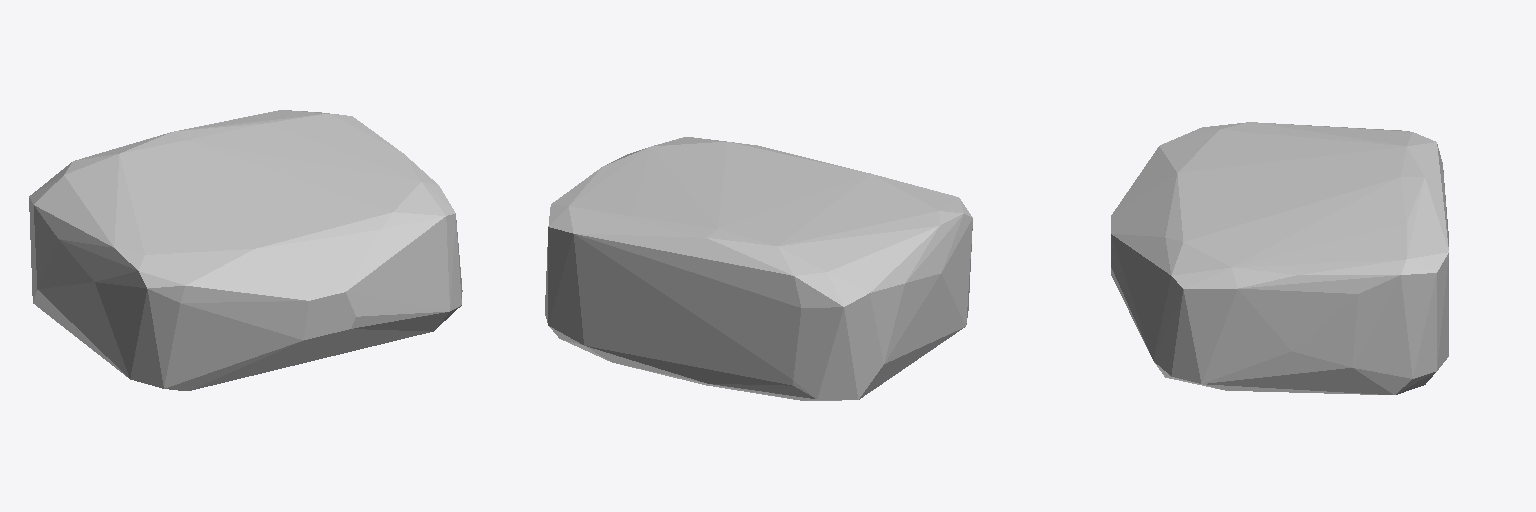
The model's file is Paul_Frank_Dot_Lunch_Box_collision.obj.
The picture shows the model from 3 angles: view 1: azimuth 30°, elevation 25°; view 2: azimuth 150°, elevation 25°; view 3: azimuth 270°, elevation 25°; orthographic projection.
Visible parts, largest first — view 1: convex_0; view 2: convex_0; view 3: convex_0.
Boxes of the visible parts, <box> form: convex_0: <box>29,110,462,390</box>; convex_0: <box>545,137,972,400</box>; convex_0: <box>1111,122,1448,394</box>.
Bounding box in the file's own units: 0.2676 × 0.1129 × 0.2341.